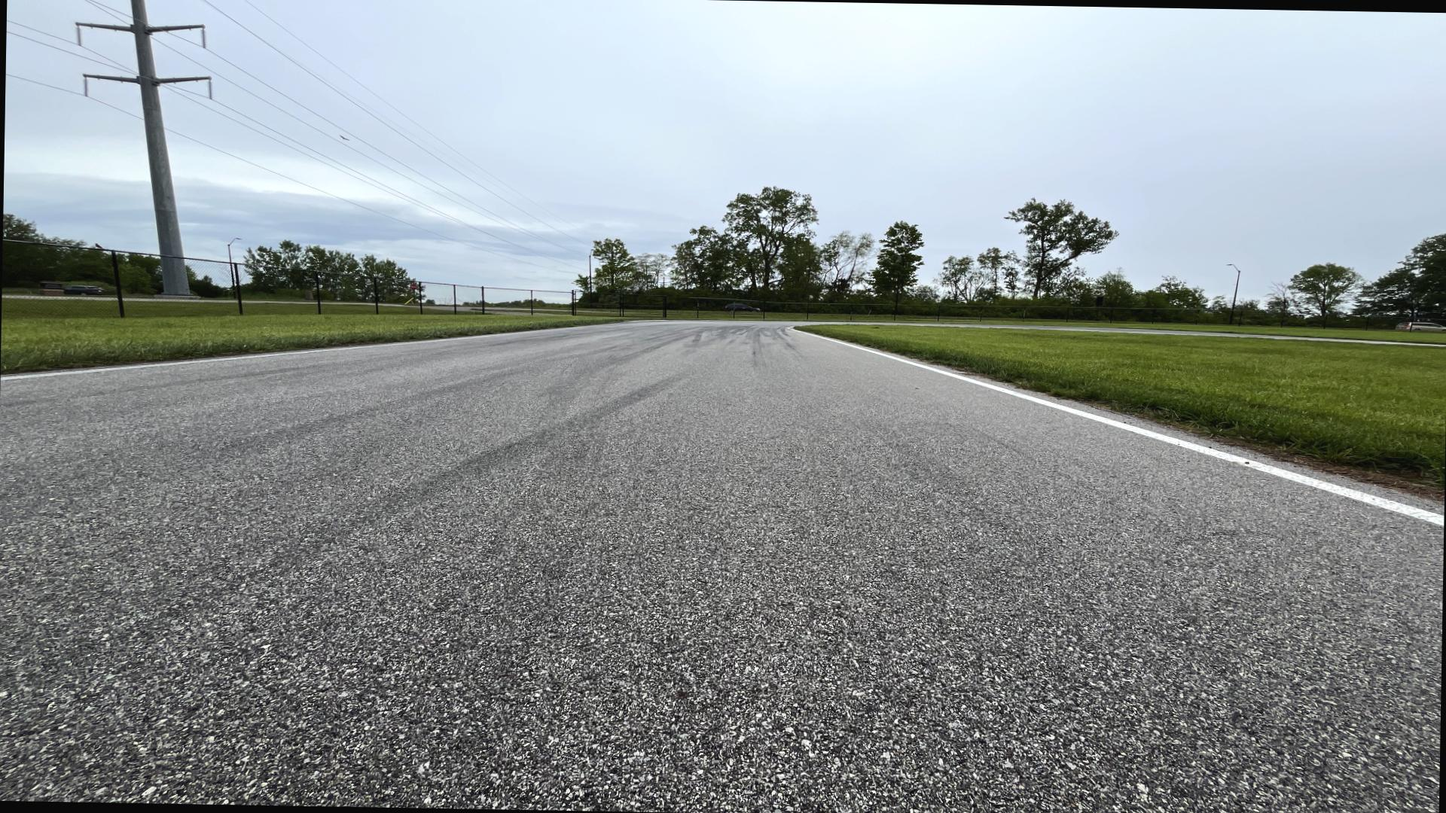white-line: (787, 326, 1443, 528), (1, 320, 682, 382)
